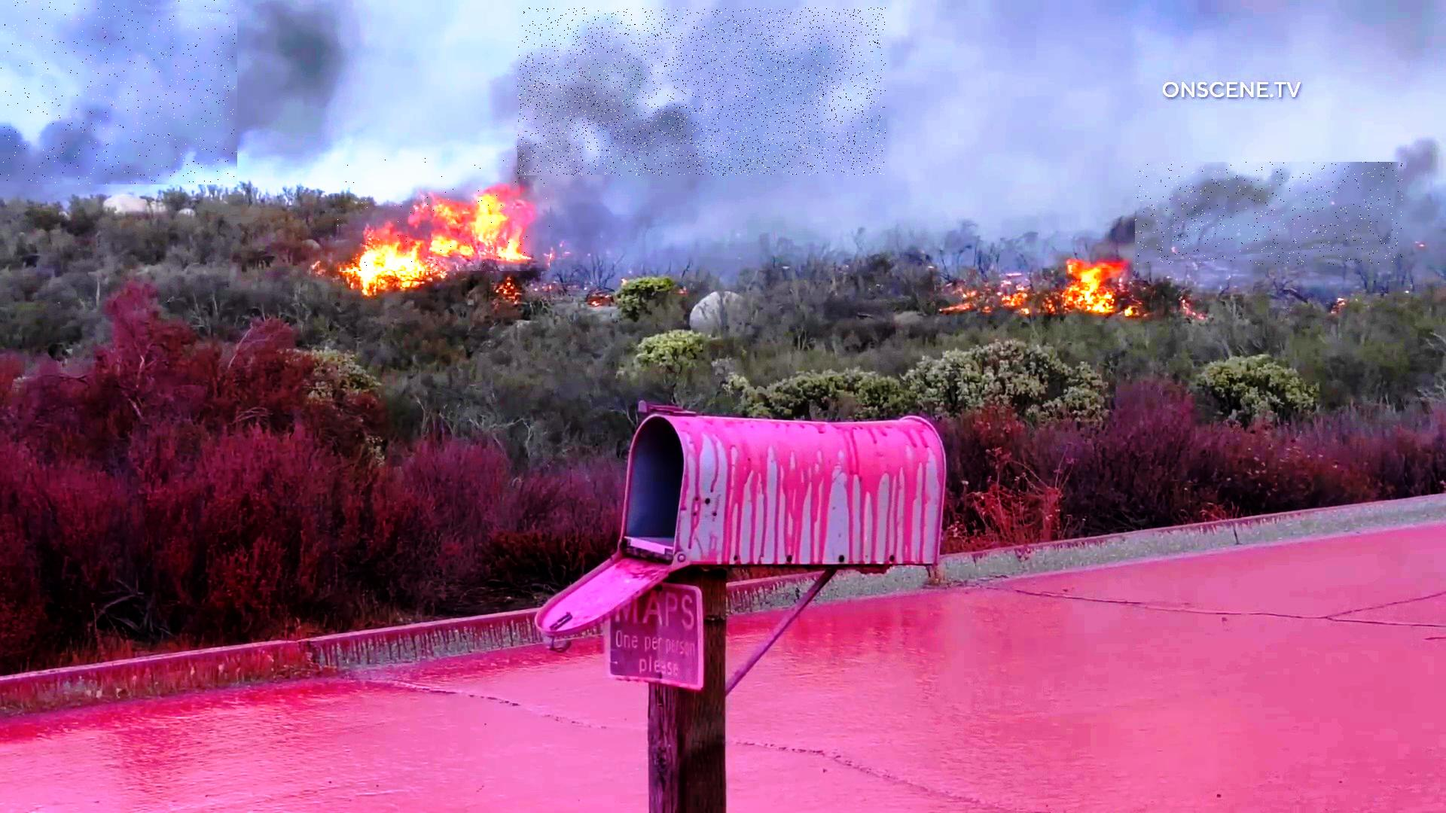fire: (335, 157, 550, 271)
smoke: (518, 8, 886, 175), (0, 0, 237, 184), (1136, 162, 1403, 265)
